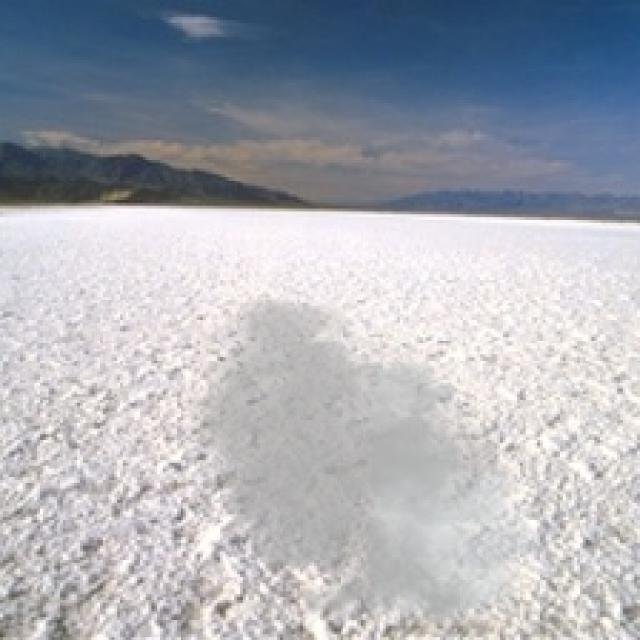smoke: (175, 292, 554, 637)
